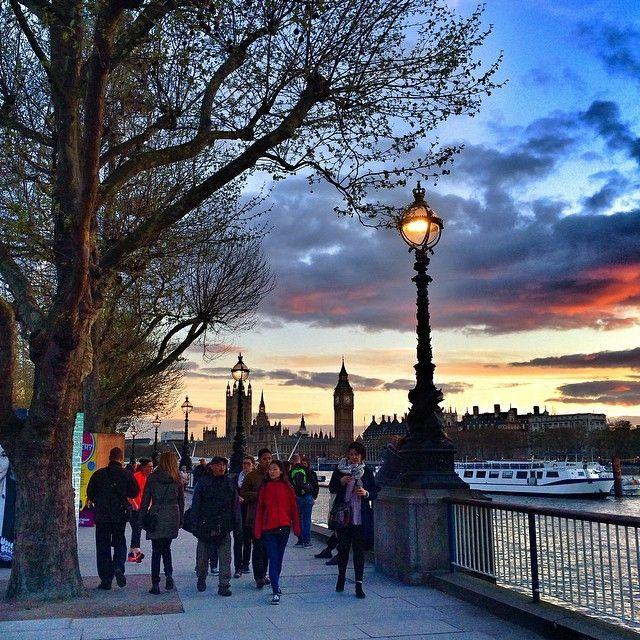Walking: (99, 441, 322, 603), (331, 440, 382, 599), (88, 446, 136, 594), (189, 455, 239, 596), (140, 452, 184, 596), (240, 447, 276, 587), (315, 453, 353, 561), (290, 454, 319, 547), (128, 458, 153, 563), (192, 460, 207, 485)
loitering: (314, 530, 338, 560), (179, 465, 189, 493), (281, 461, 291, 476), (125, 464, 136, 474)
